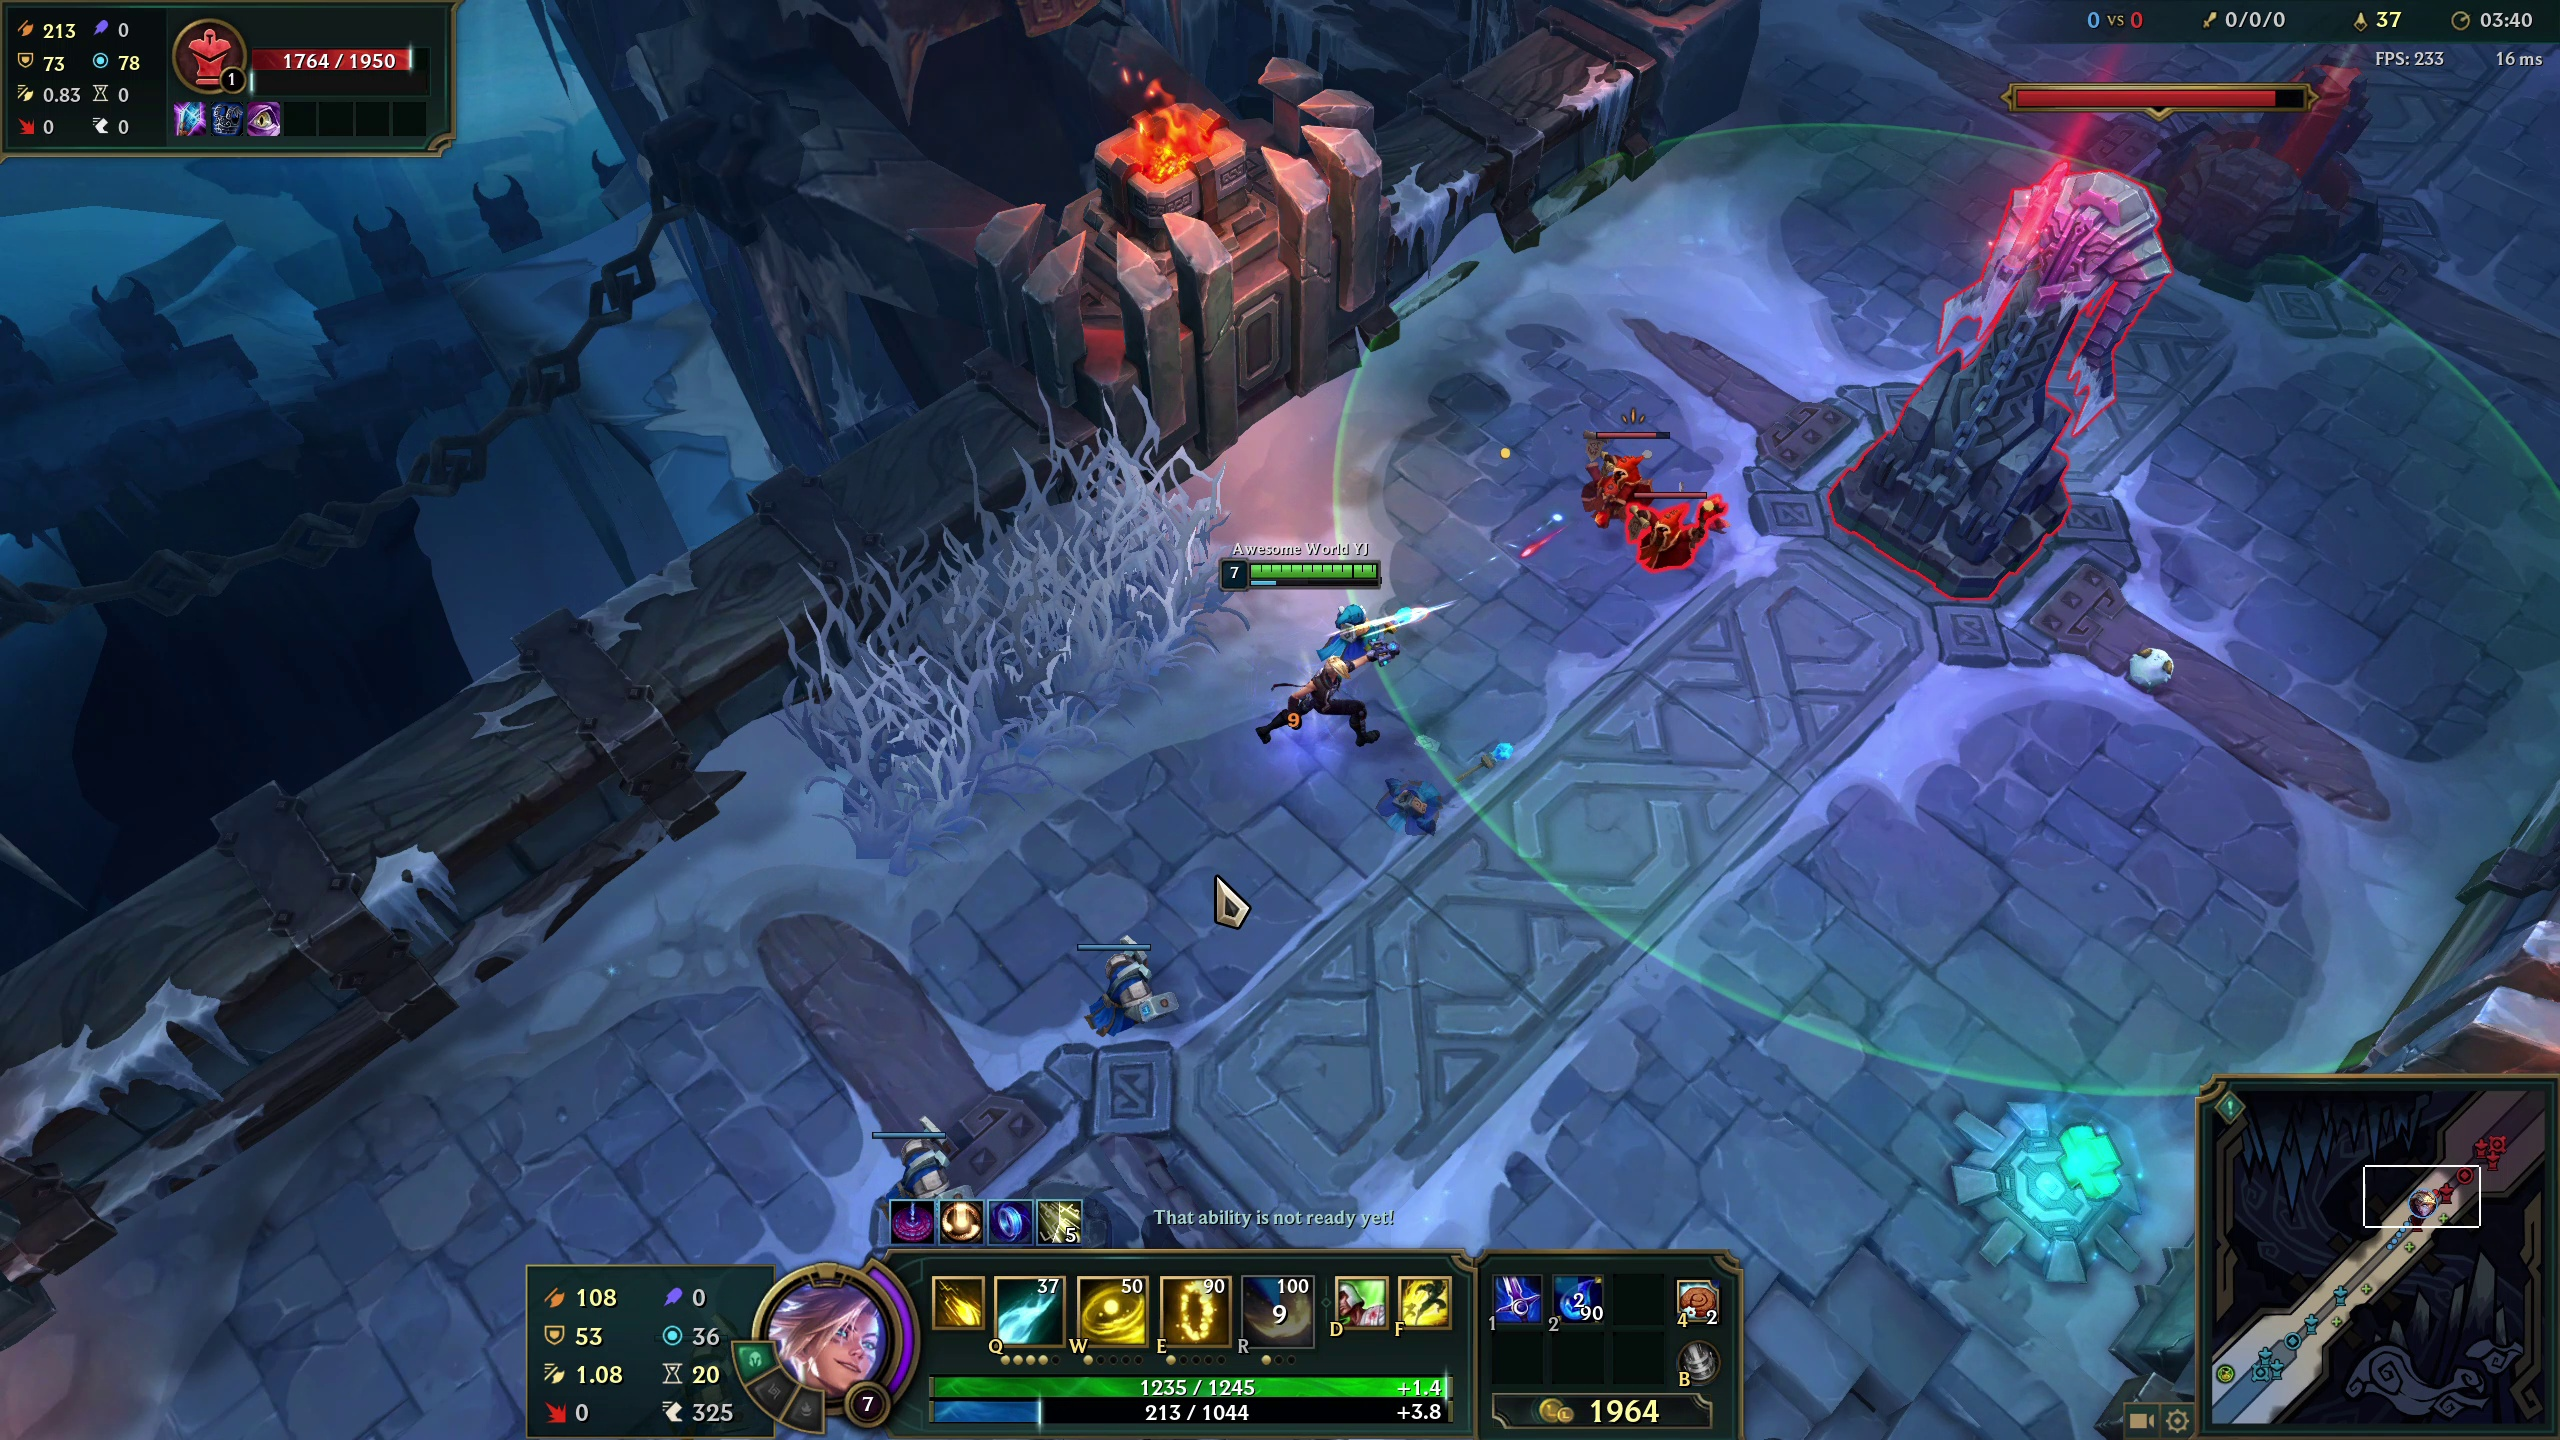EZ: (1217, 542, 1417, 768)
EnemyMinion: (1628, 485, 1730, 573), (1568, 422, 1653, 515)
Glass: (837, 550, 1146, 738)
Inhibitor: (2184, 128, 2358, 280)
MyMinion: (1067, 932, 1175, 1030), (867, 1129, 971, 1194)
Turret: (1931, 151, 2098, 612)
